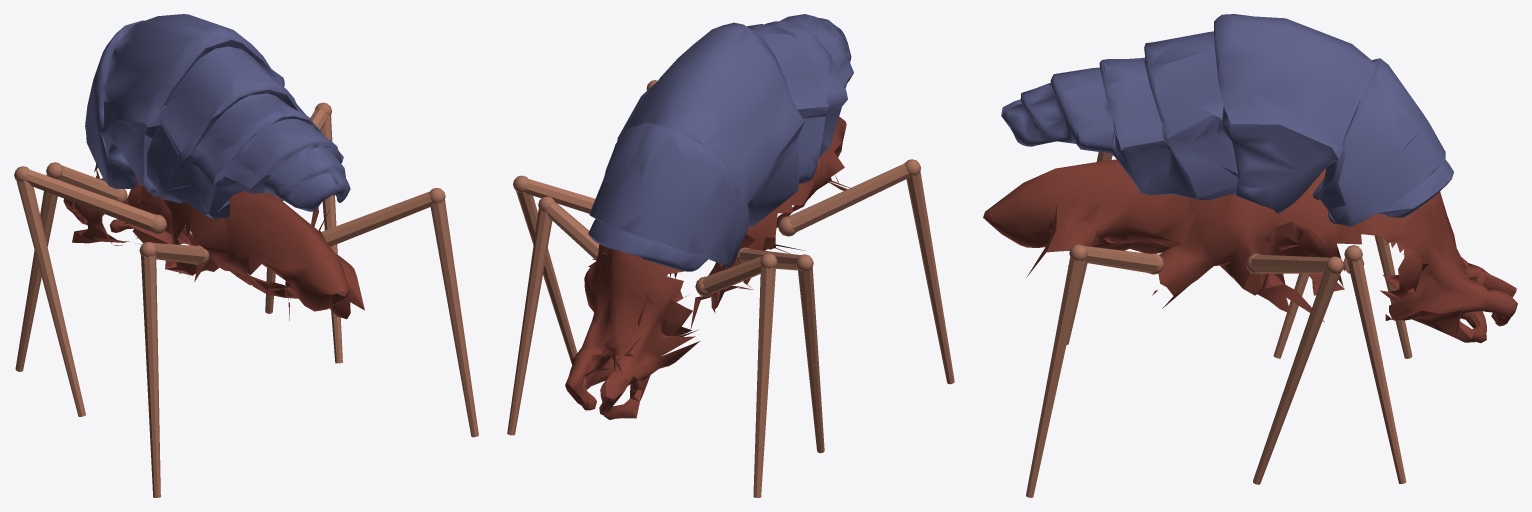
Rendered from big-biter.glb.
3 views of the same model, side by side, from view 1: azimuth 30°, elevation 25°; view 2: azimuth 150°, elevation 25°; view 3: azimuth 270°, elevation 25° (orthographic). The views are drawn at different scales.
Parts seen in each view (by area): view 1: body; view 2: body; view 3: body.
Part boxes in pixels (x1,y1,x2,y2): body: [14, 14, 478, 497]; body: [507, 14, 954, 497]; body: [983, 14, 1517, 497].
Bounding box in the file's own units: 2.27 × 2.66 × 3.28.
